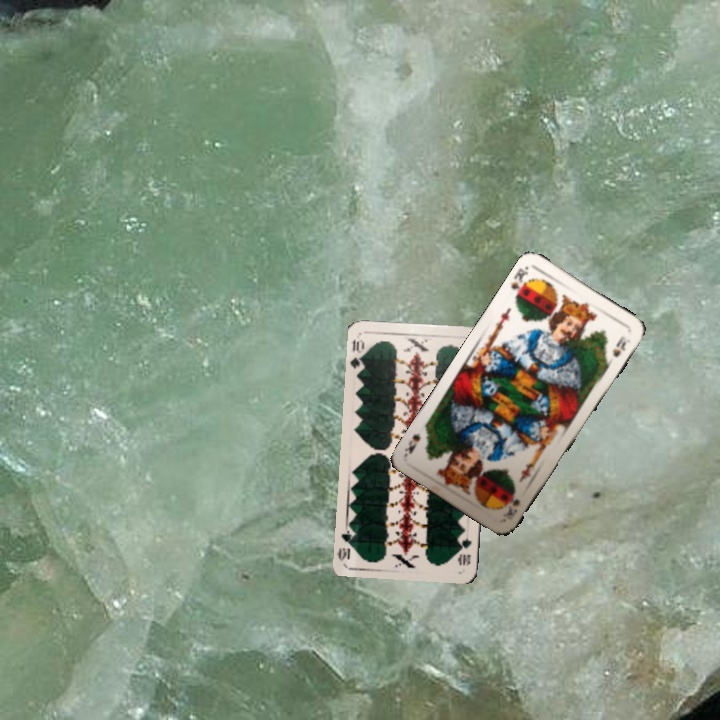G10: (347, 335, 368, 374), (455, 534, 474, 568)
SK: (507, 262, 532, 302), (502, 492, 523, 518)
